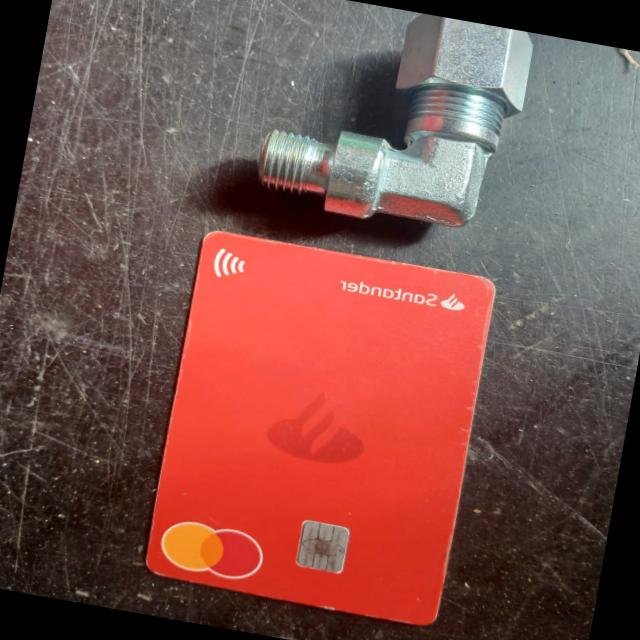cartao: (143, 227, 497, 628)
rosca_externa: (253, 0, 535, 241)
